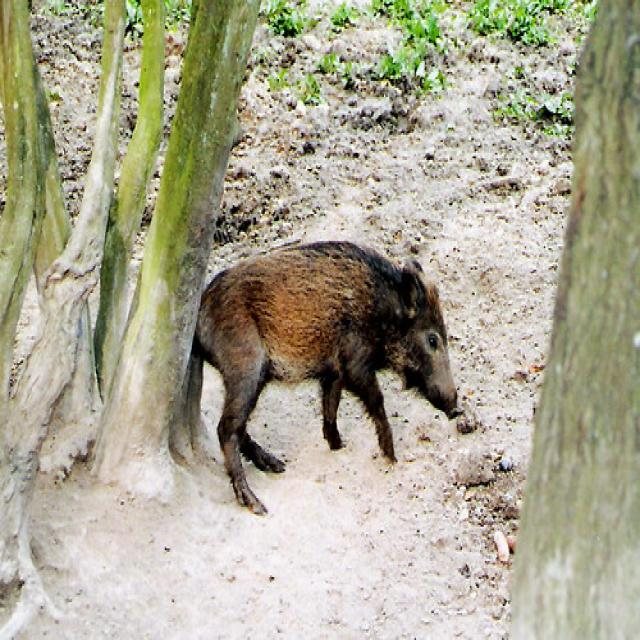boar: (158, 230, 475, 534)
